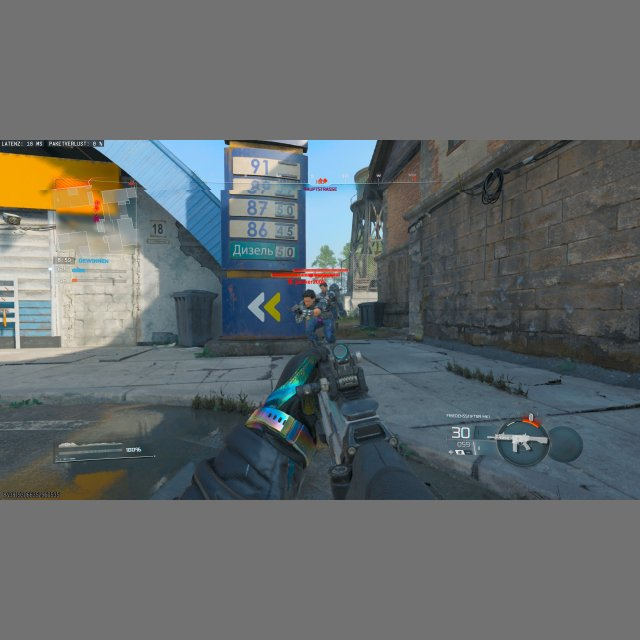head: (303, 288, 316, 305)
player: (292, 288, 334, 346)
